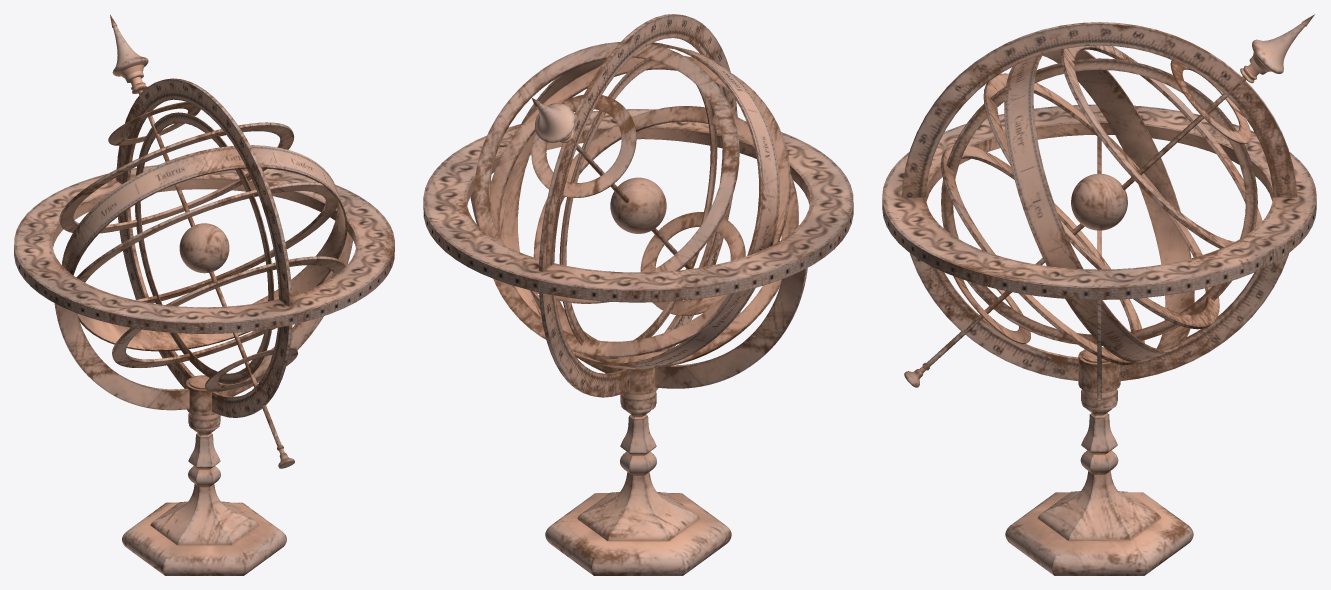
The model's file is armilary.fbx.
3 renders of one model, left to right at view 1: azimuth 30°, elevation 25°; view 2: azimuth 150°, elevation 25°; view 3: azimuth 270°, elevation 25°, orthographic. The views are drawn at different scales.
Parts seen in each view (by area): view 1: Lathe; view 2: Lathe; view 3: Lathe.
Boxes of the visible parts, x1=… form: Lathe: x1=14, y1=14, x2=394, y2=575; Lathe: x1=423, y1=14, x2=853, y2=575; Lathe: x1=882, y1=14, x2=1316, y2=575.
Size of the model in its own units: 200 by 269 by 200.
